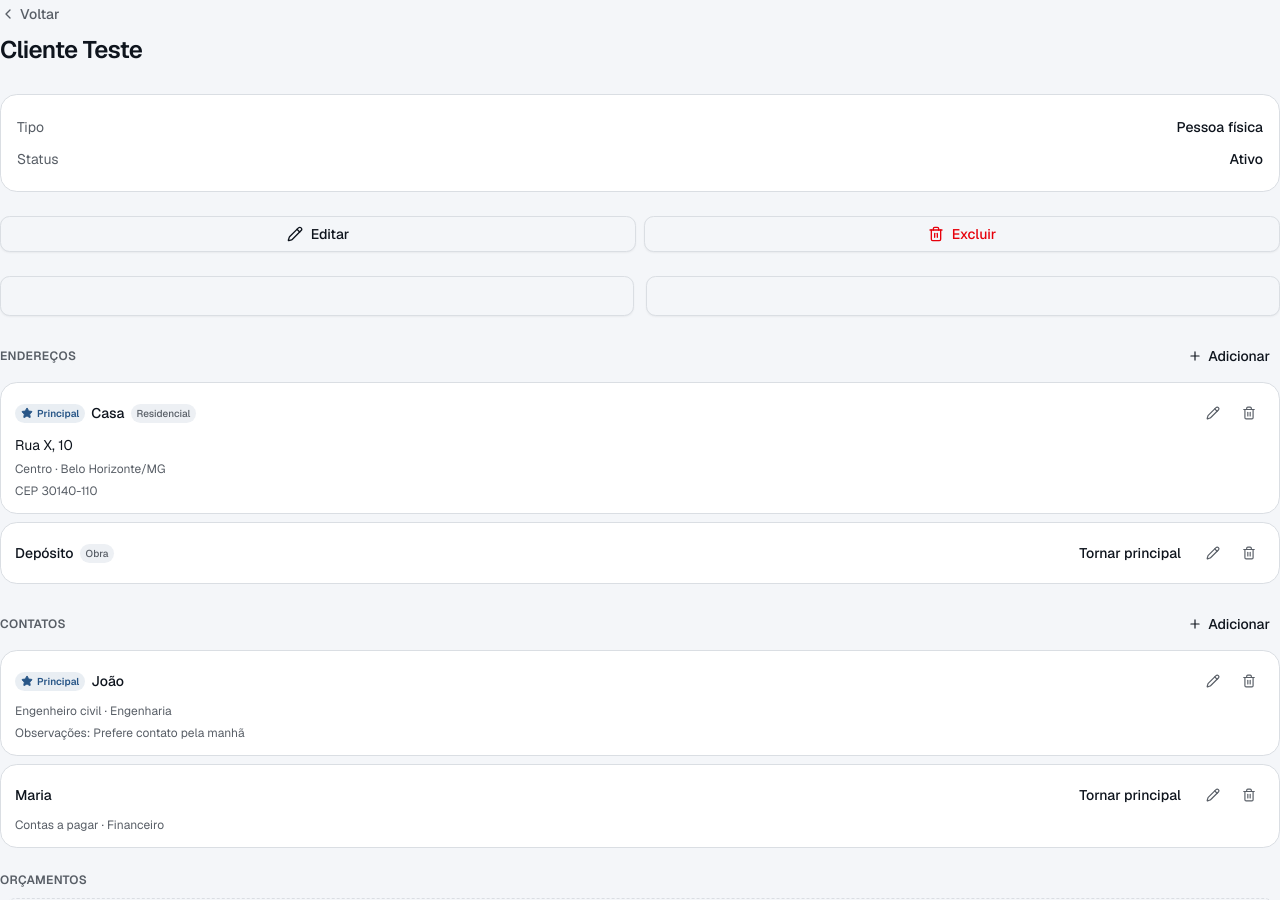
Test: CustomerDetail › D8: shows the backend's delete-primary rejection message in the confirm dialog
Check: the text "Casa" is shown, box [91,403,125,423]
Click the button named "Excluir endereço Casa".
click(1249, 413)  # box [1233,397,1265,429]
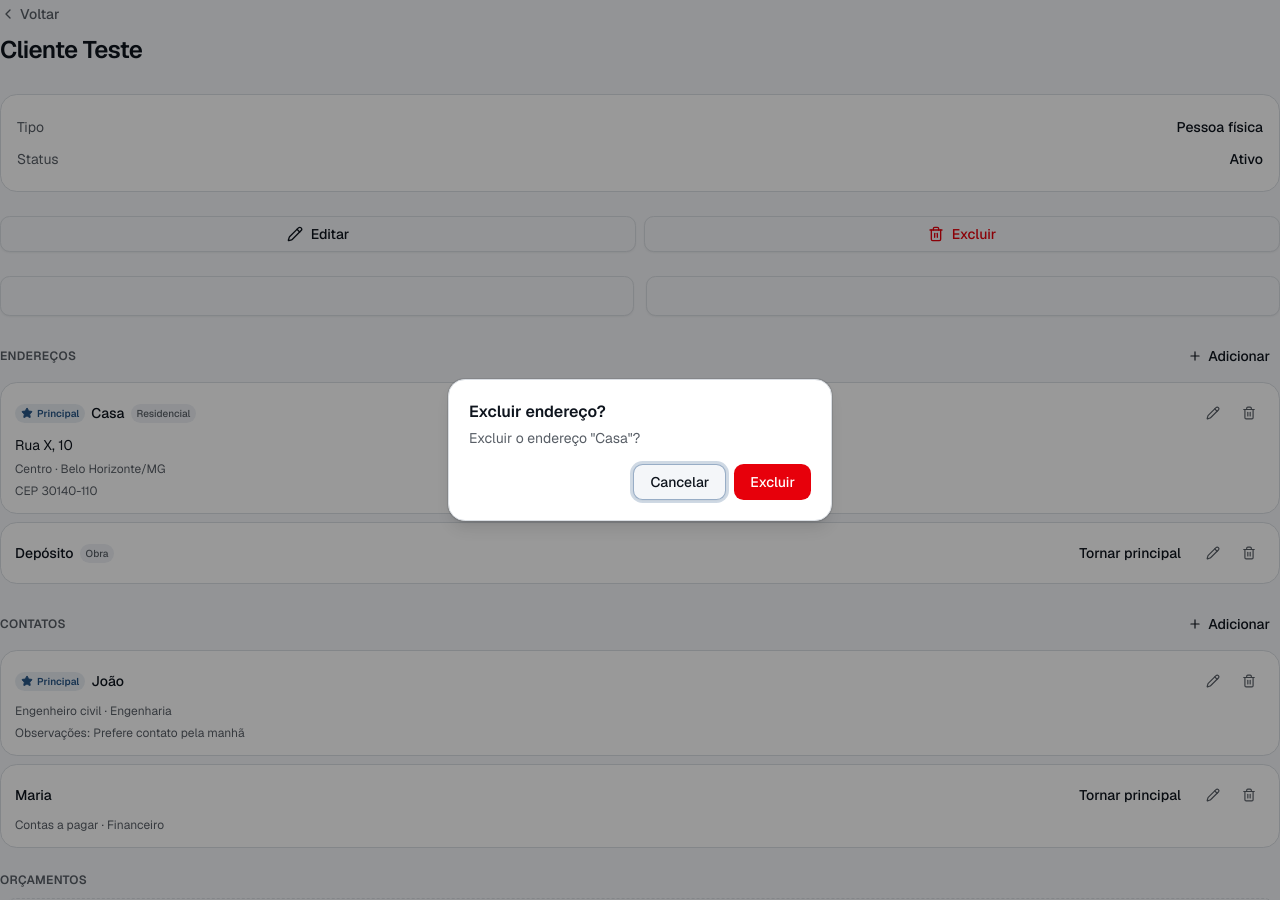
Click the button "Excluir".
click(773, 482)  # box [734,464,811,500]
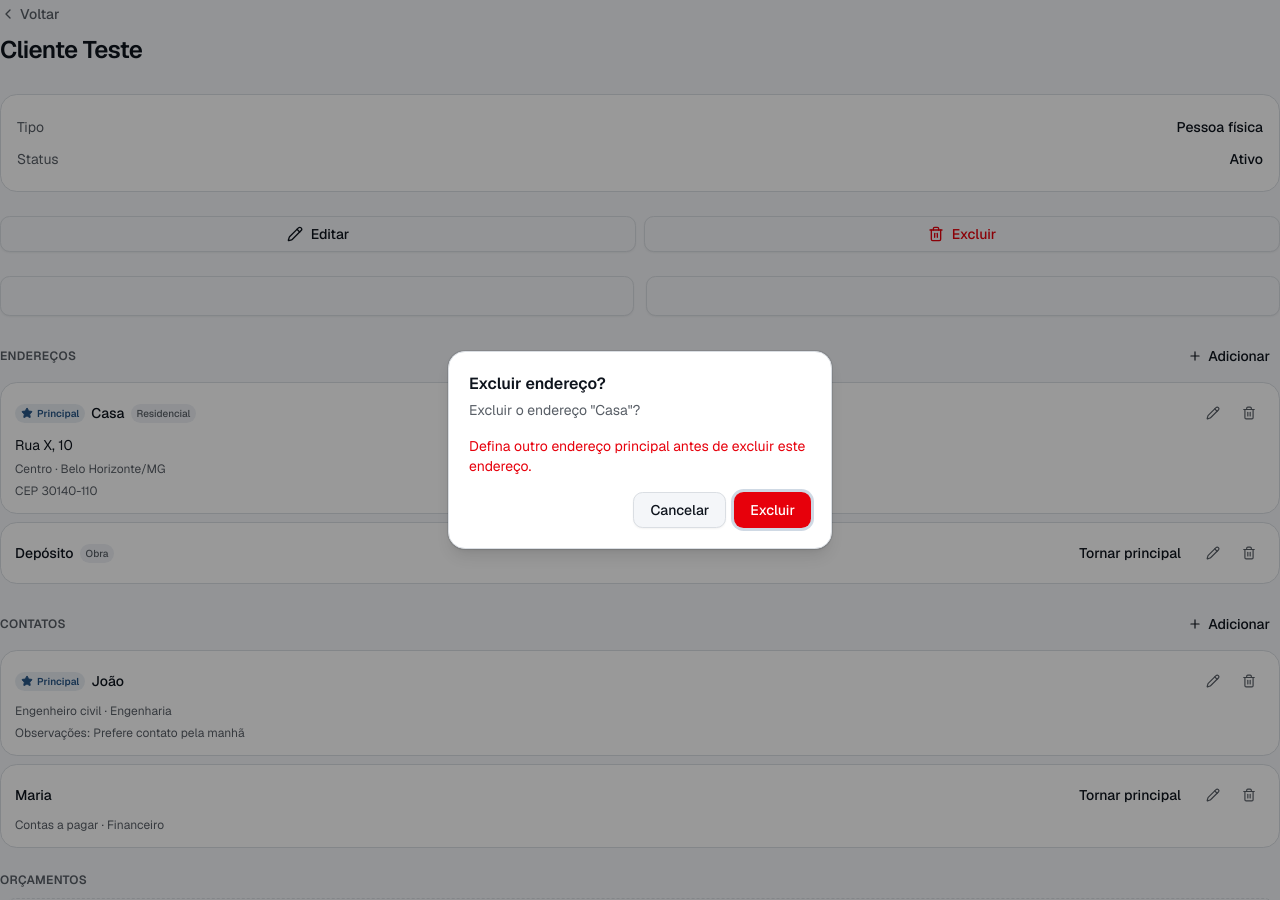
Check: the text "Defina outro endereço principal antes de excluir este endereço." is shown, box [469,436,811,476]
